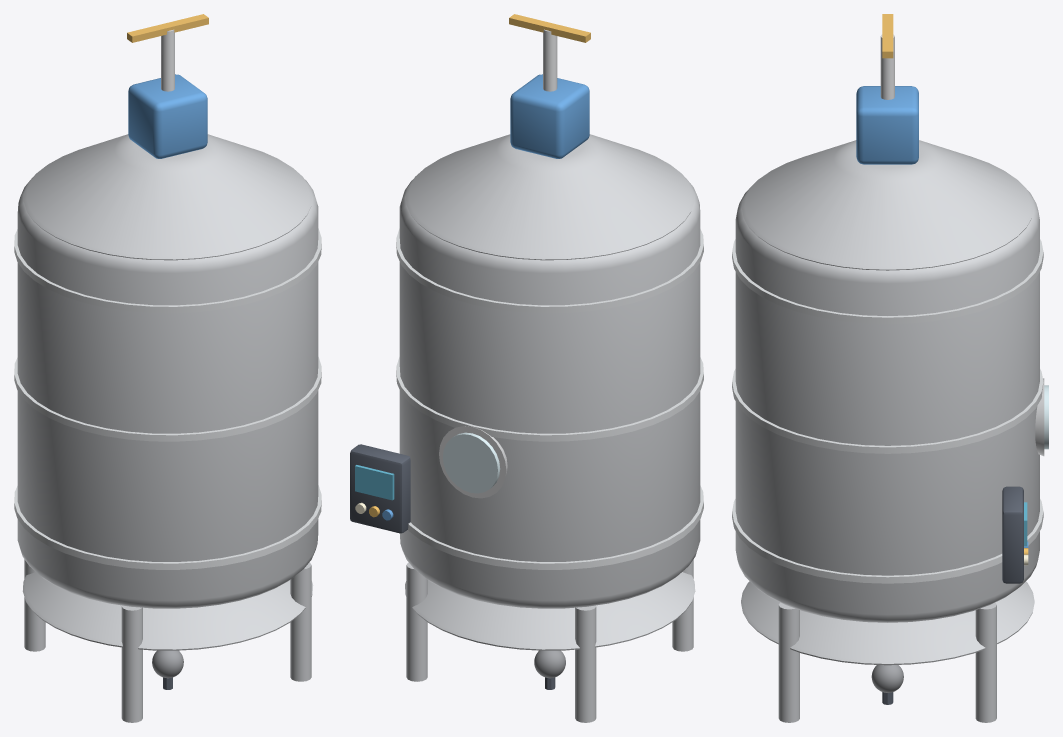
The model's file is Fermentator.fbx.
3 views of the same model, side by side, from view 1: azimuth 30°, elevation 25°; view 2: azimuth 150°, elevation 25°; view 3: azimuth 270°, elevation 25° (orthographic).
Parts seen in each view (by area): view 1: Maszyna_Fermentator_Korpus, Maszyna_Fermentator_Mieszadlo_Obrot, Maszyna_Fermentator_Lampka; view 2: Maszyna_Fermentator_Korpus, Maszyna_Fermentator_Mieszadlo_Obrot, Maszyna_Fermentator_Lampka; view 3: Maszyna_Fermentator_Korpus, Maszyna_Fermentator_Mieszadlo_Obrot, Maszyna_Fermentator_Lampka.
Part boxes in pixels (x1,y1,x2,y2): Maszyna_Fermentator_Korpus: (14, 74, 321, 722); Maszyna_Fermentator_Mieszadlo_Obrot: (127, 14, 208, 91); Maszyna_Fermentator_Lampka: (152, 650, 183, 689); Maszyna_Fermentator_Korpus: (350, 74, 703, 722); Maszyna_Fermentator_Mieszadlo_Obrot: (509, 14, 590, 91); Maszyna_Fermentator_Lampka: (534, 650, 565, 689); Maszyna_Fermentator_Korpus: (732, 86, 1048, 722); Maszyna_Fermentator_Mieszadlo_Obrot: (880, 14, 894, 99); Maszyna_Fermentator_Lampka: (871, 665, 903, 704).
Size of the model in its own units: 1.75 by 4.13 by 1.77.
